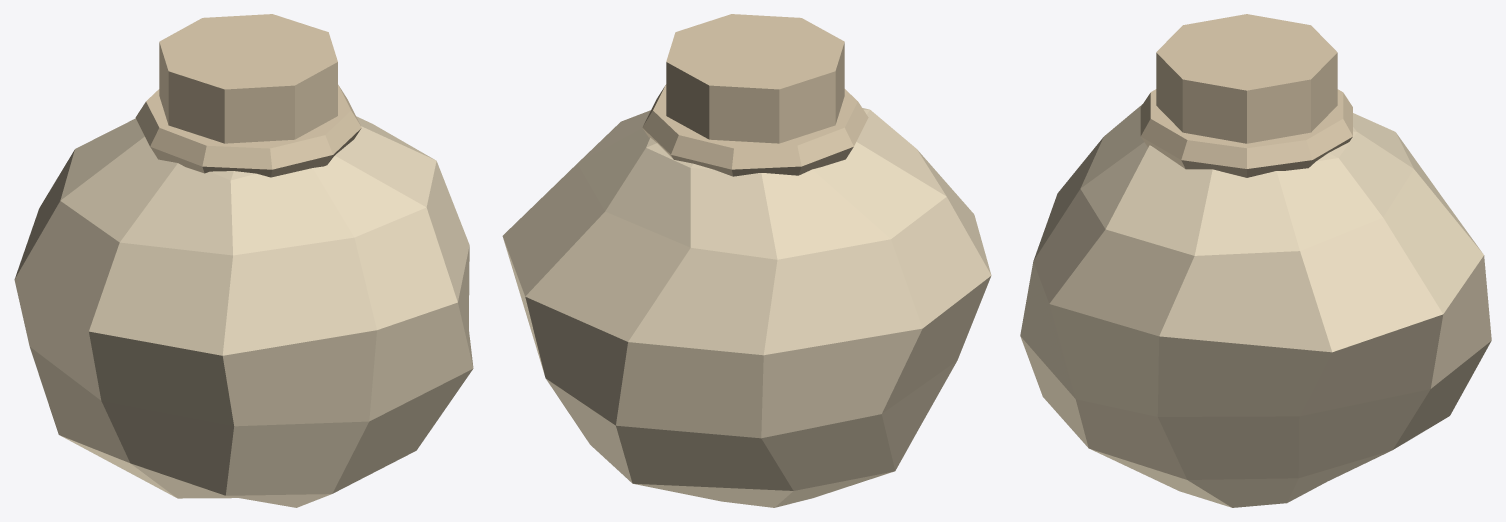
File: ASTX_PROP_SACK.glb
3 views of the same model, side by side, from view 1: azimuth 30°, elevation 25°; view 2: azimuth 150°, elevation 25°; view 3: azimuth 270°, elevation 25° (orthographic).
Visible parts, largest first — view 1: ASTX_PROP_SACK_body, ASTX_PROP_SACK_tie, ASTX_PROP_SACK_cinch; view 2: ASTX_PROP_SACK_body, ASTX_PROP_SACK_tie, ASTX_PROP_SACK_cinch; view 3: ASTX_PROP_SACK_body, ASTX_PROP_SACK_tie, ASTX_PROP_SACK_cinch.
Part boxes in pixels (box(x1,y1,x2,y2)): ASTX_PROP_SACK_body: box(14, 116, 473, 507); ASTX_PROP_SACK_tie: box(159, 14, 337, 143); ASTX_PROP_SACK_cinch: box(135, 84, 361, 177); ASTX_PROP_SACK_body: box(502, 108, 991, 507); ASTX_PROP_SACK_tie: box(666, 14, 844, 143); ASTX_PROP_SACK_cinch: box(642, 84, 868, 176); ASTX_PROP_SACK_body: box(1020, 104, 1491, 507); ASTX_PROP_SACK_tie: box(1156, 14, 1337, 143); ASTX_PROP_SACK_cinch: box(1140, 89, 1352, 177).
Bounding box in the file's own units: 0.666 × 0.669 × 0.6757.
